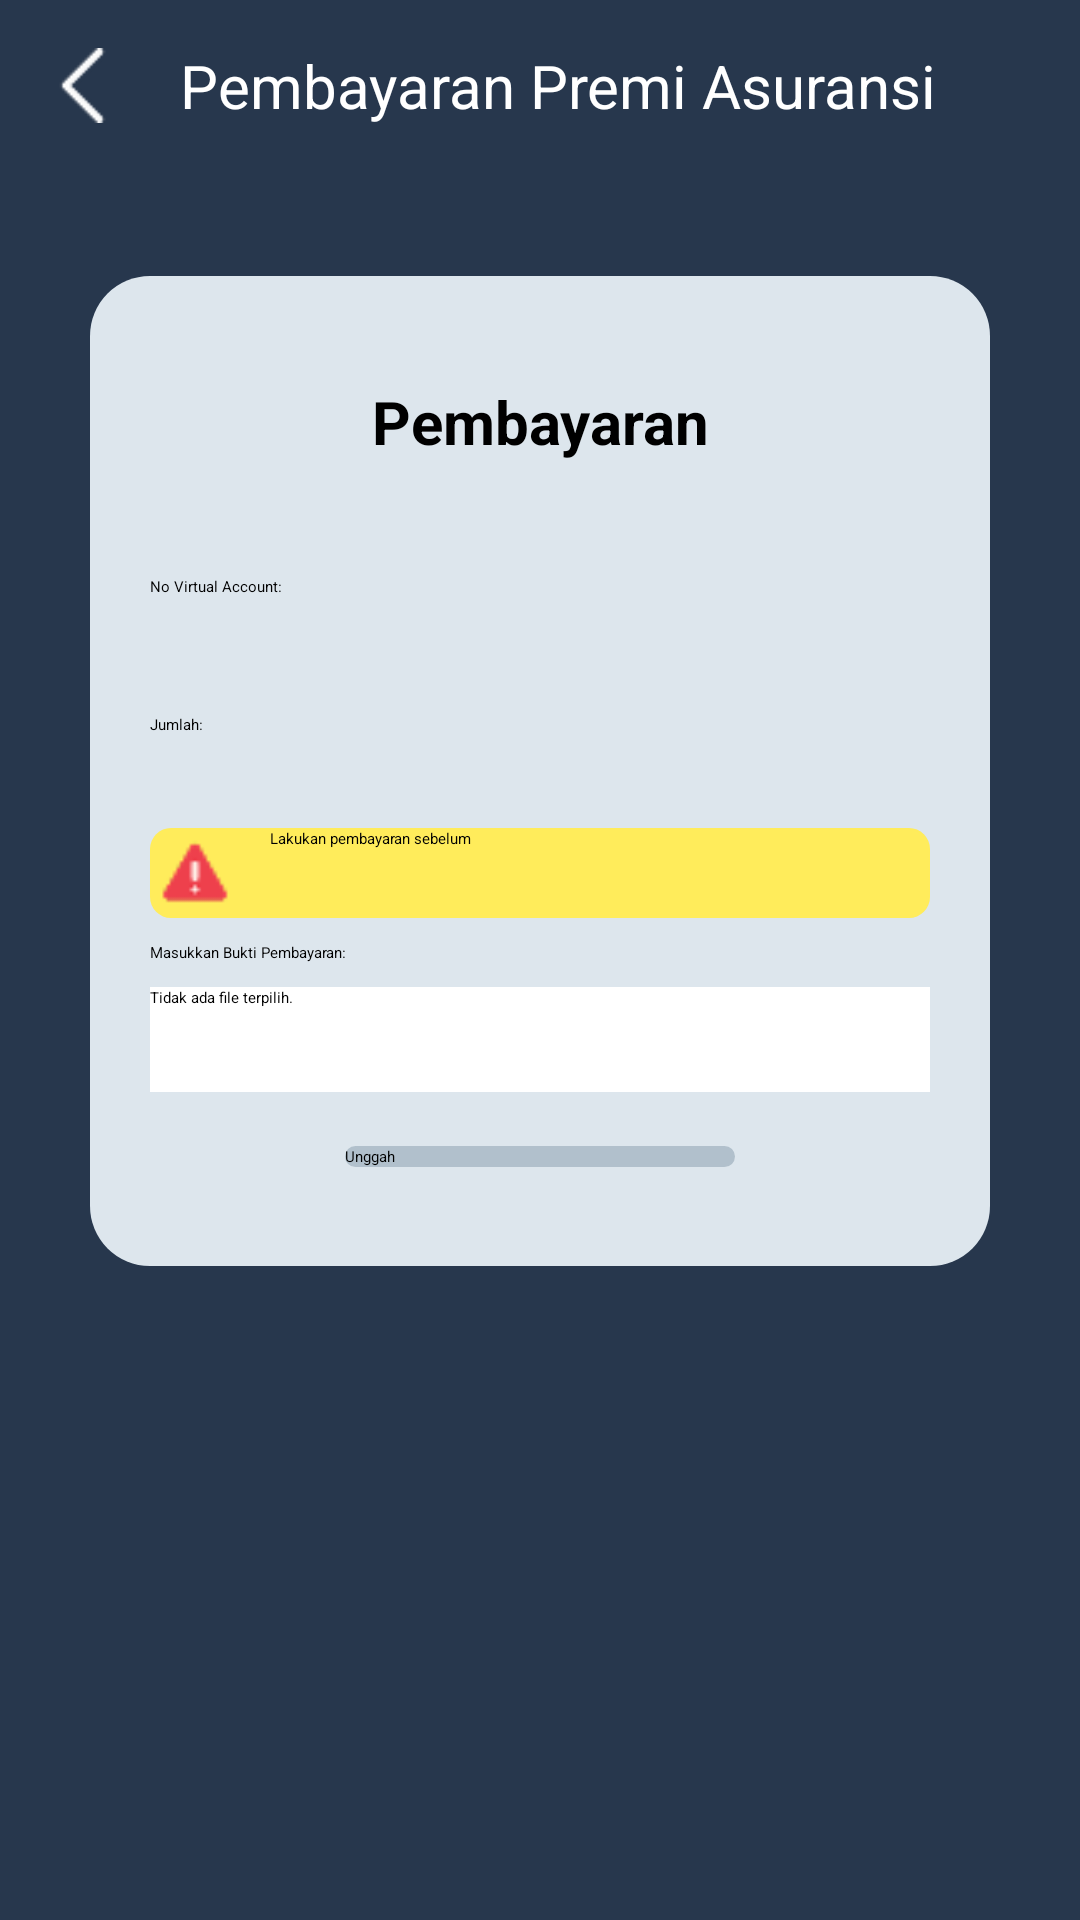

Screen size 1080x1920. Icon name, then its center in pixels as (x=x, y=y):
back: (x=82, y=85)
warning: (x=195, y=873)
